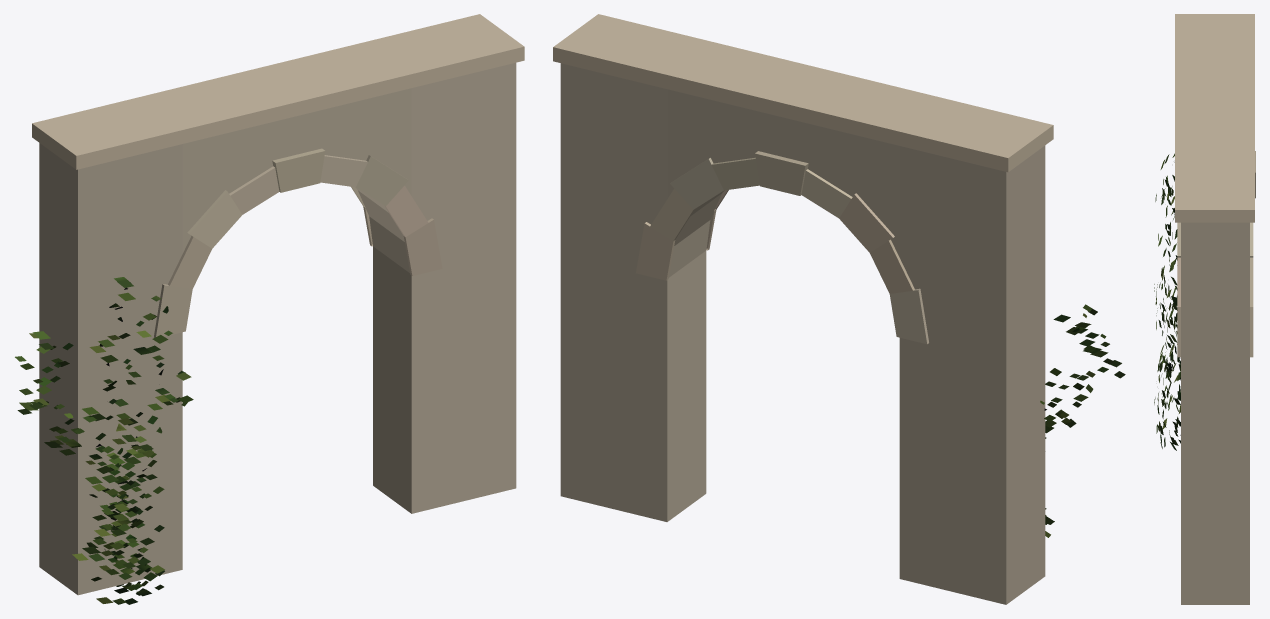
Rendered from arco_paso.glb.
3 renders of one model, left to right at view 1: azimuth 30°, elevation 25°; view 2: azimuth 150°, elevation 25°; view 3: azimuth 270°, elevation 25°, orthographic. The views are drawn at different scales.
Visible parts, largest first — view 1: arco_paso_fijo, arco_paso_vegetacion; view 2: arco_paso_fijo, arco_paso_vegetacion; view 3: arco_paso_fijo, arco_paso_vegetacion.
Part boxes in pixels (box(x1,y1,x2,y2)): arco_paso_fijo: box(32, 14, 524, 595); arco_paso_vegetacion: box(15, 277, 193, 604); arco_paso_fijo: box(553, 14, 1053, 604); arco_paso_vegetacion: box(1040, 304, 1125, 537); arco_paso_fijo: box(1175, 14, 1255, 604); arco_paso_vegetacion: box(1154, 153, 1180, 450).
Bounding box in the file's own units: 5.38 × 4.56 × 1.03.
